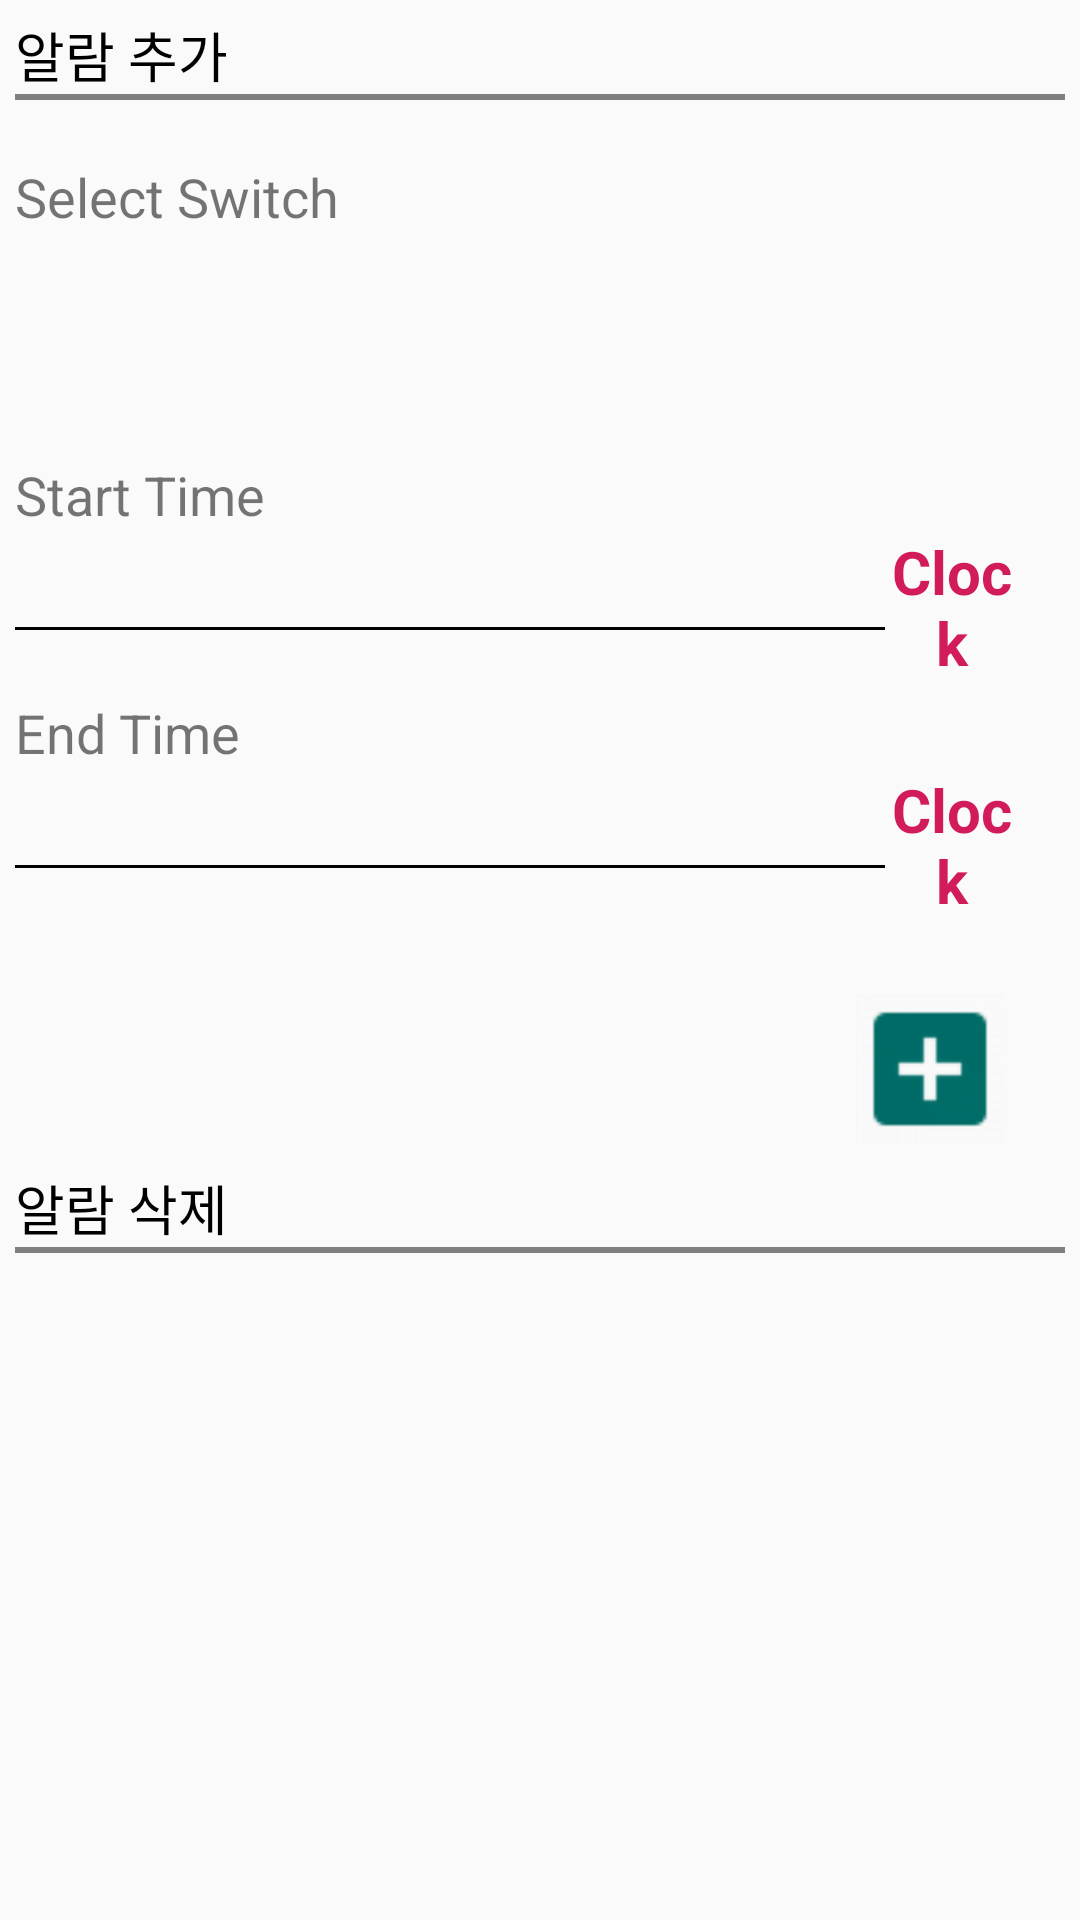

Locate icon controls on the screen. Image size 1080px x 1920px, boxes as (left=x1, top=y1, right=x2, bottom=y2).
add: (left=872, top=1011, right=988, bottom=1126)
